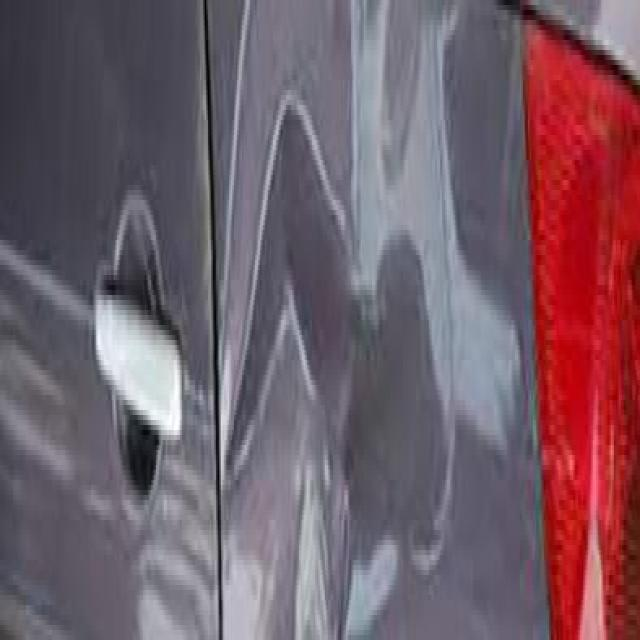dent: (219, 10, 481, 640)
